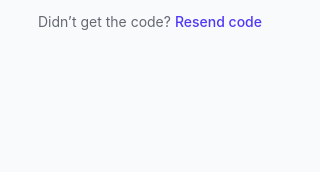
Test: ResendCode › confirms the new code and starts the countdown again
This screenshot has width=320, height=172.
Click the button "Resend code".
click(218, 22)  # box top-left (175, 12), bottom-right (262, 32)
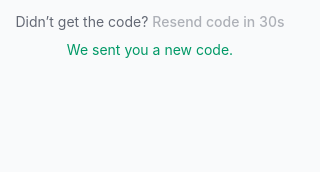
Check: the text "We sent you a new code." is shown, box top-left (67, 40), bottom-right (233, 60)
Check: the button "Resend code in 30s" is disabled, box top-left (152, 12), bottom-right (285, 32)
